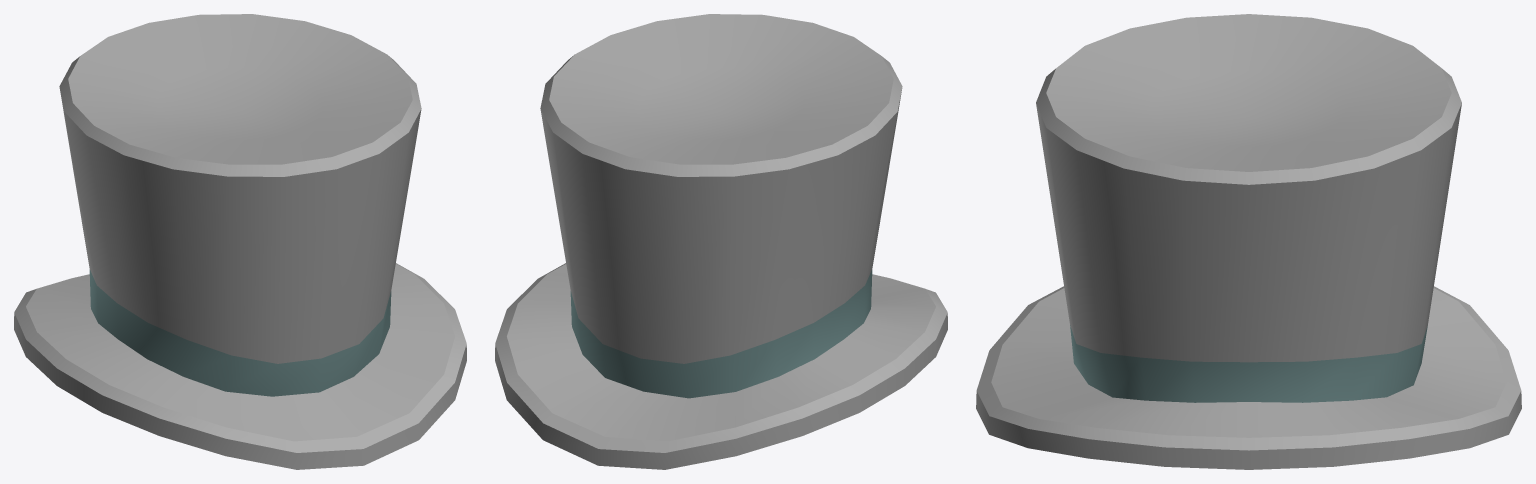
Rendered from topHat.fbx.
3 views of the same model, side by side, from view 1: azimuth 30°, elevation 25°; view 2: azimuth 150°, elevation 25°; view 3: azimuth 270°, elevation 25° (orthographic). The views are drawn at different scales.
Visible parts, largest first — view 1: pCylinder1; view 2: pCylinder1; view 3: pCylinder1.
Part boxes in pixels (left/top/right/bottom): pCylinder1: left=14, top=14, right=466, bottom=469; pCylinder1: left=495, top=14, right=947, bottom=469; pCylinder1: left=976, top=14, right=1521, bottom=469.
Size of the model in its own units: 11.4 by 8.52 by 13.26.
